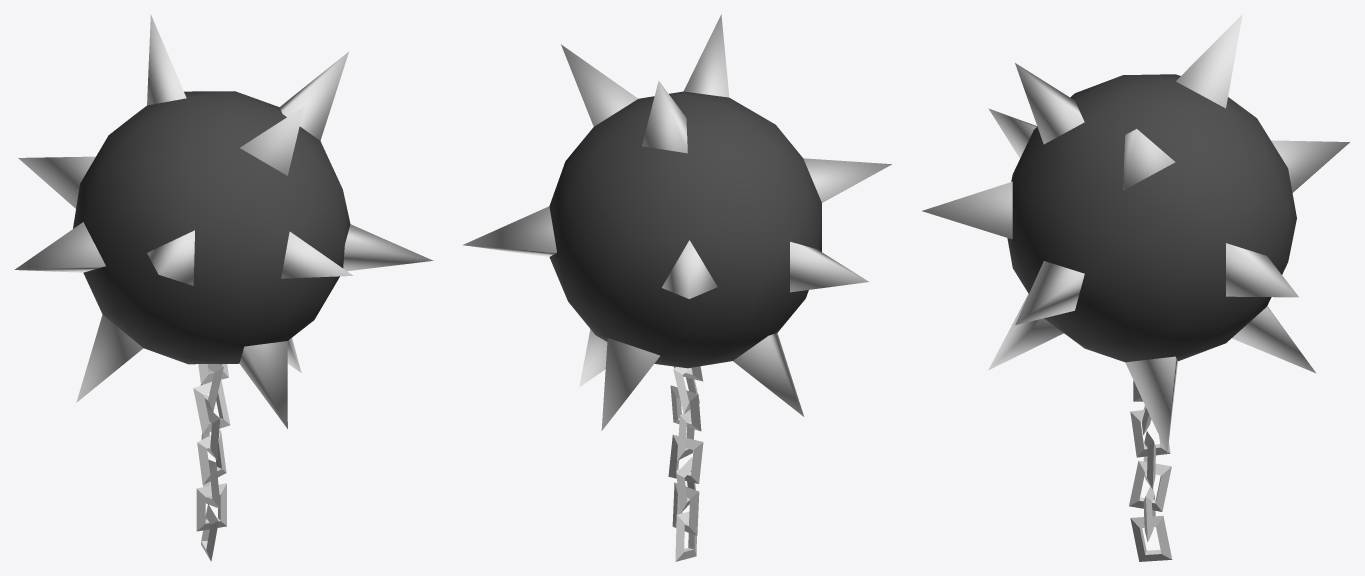
The model's file is Bomb.fbx.
The picture shows the model from 3 angles, left to right: view 1: azimuth 30°, elevation 25°; view 2: azimuth 150°, elevation 25°; view 3: azimuth 270°, elevation 25°; orthographic projection. The views are drawn at different scales.
Parts seen in each view (by area): view 1: Bomb_Mesh; view 2: Bomb_Mesh; view 3: Bomb_Mesh.
Boxes of the visible parts, box(x1,y1,x2,y2) form: Bomb_Mesh: box(14, 14, 433, 561); Bomb_Mesh: box(462, 14, 891, 561); Bomb_Mesh: box(922, 14, 1349, 561).
Bounding box in the file's own units: 289 × 407 × 292.
